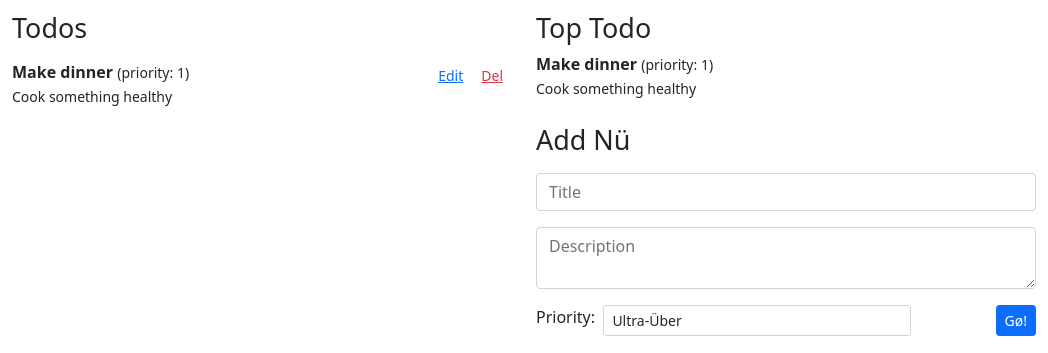
it: main TodoApp component › creating new todo that is not top
Type "test-title" into the field labelled "Title" at (786, 192), box [536,173,1036,211]
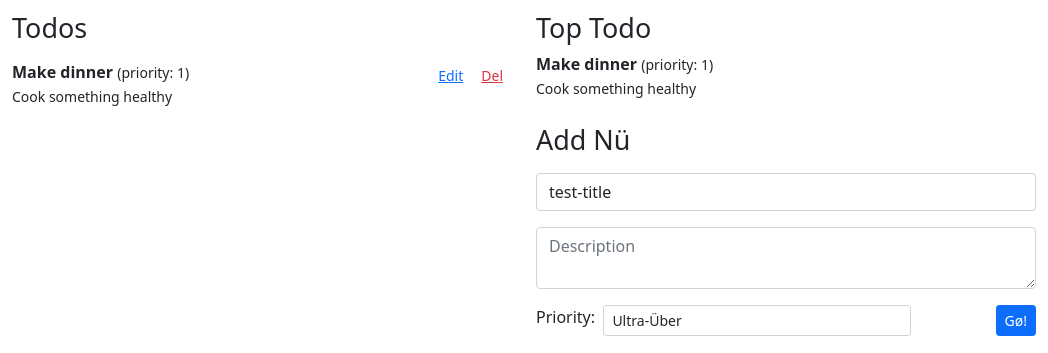
Type "test-description" into the text box labelled "Description" at (786, 258), box [536,227,1036,289]
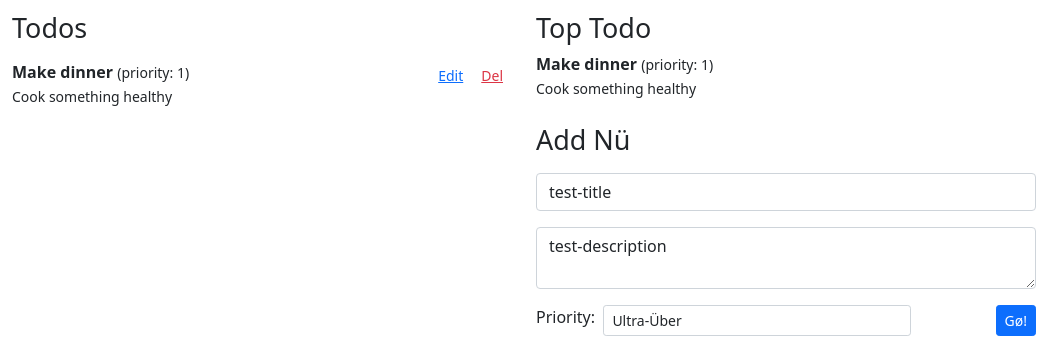
Select "Über" in the dropdown labelled "Priority:" at (757, 320), box [603,305,911,336]
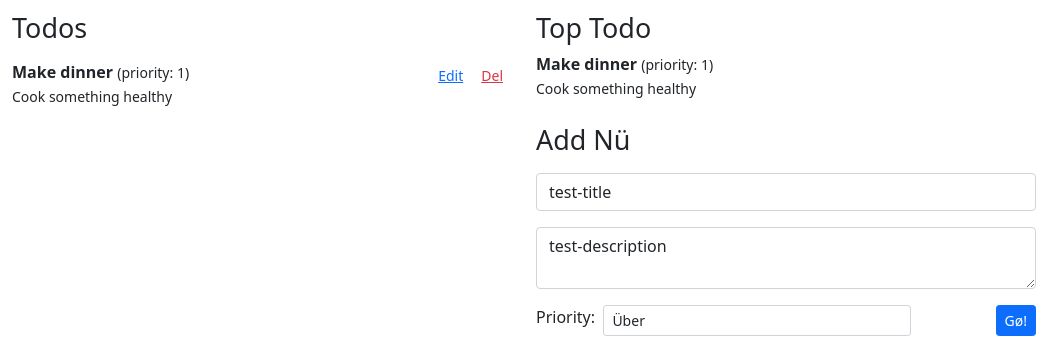
Click the button "Gø!" at (1016, 320), box [996,305,1036,336]
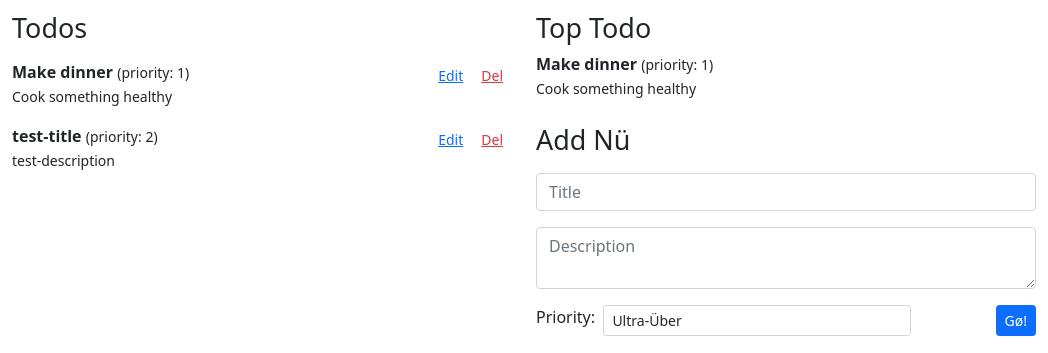
Now the text "test-title" is shown, box [12,125,82,147]
Now the text "test-description" is shown, box [12,151,115,170]
Now the text "(priority: 2)" is shown, box [86,127,158,146]
